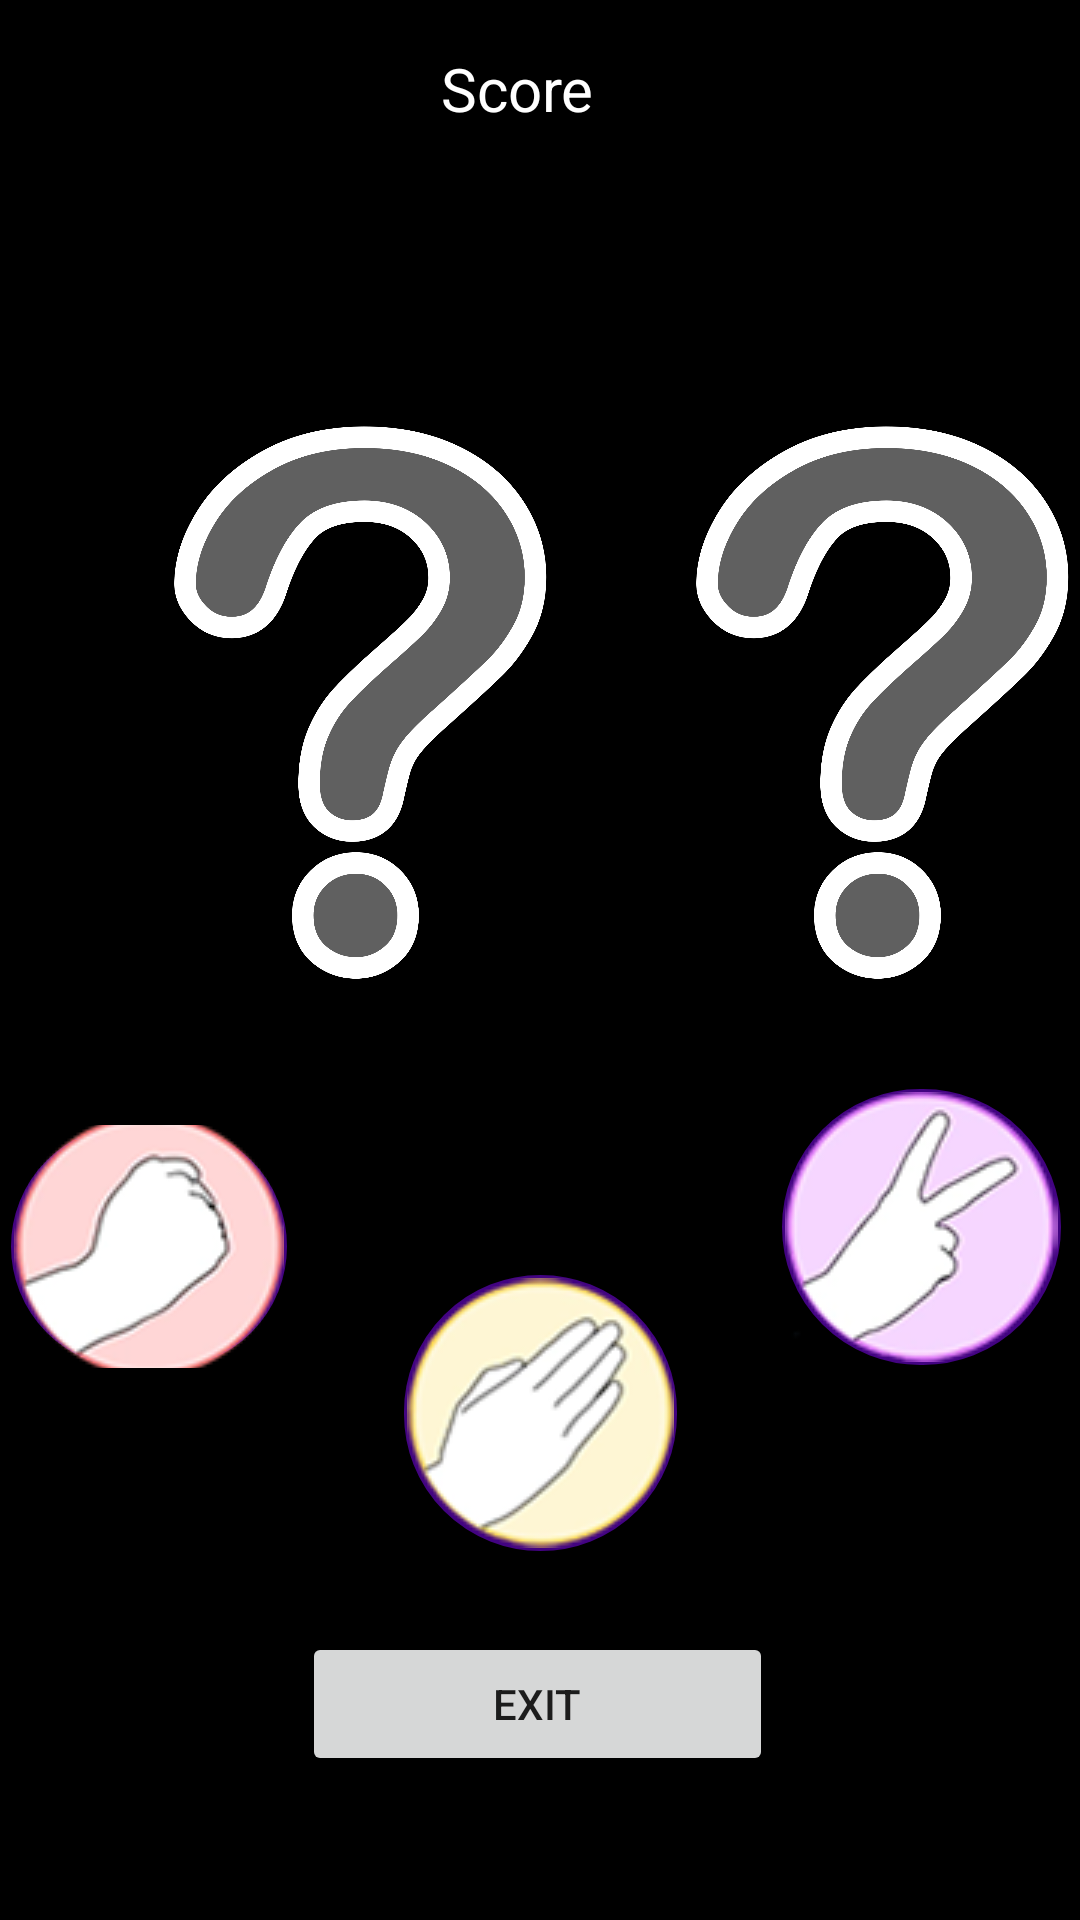

Point at icon controls on the screen. Image size 1080px×1920px, points as (x=x, y=y).
Paper: (x=540, y=1413)
Rock: (x=149, y=1246)
Scissors: (x=921, y=1227)
